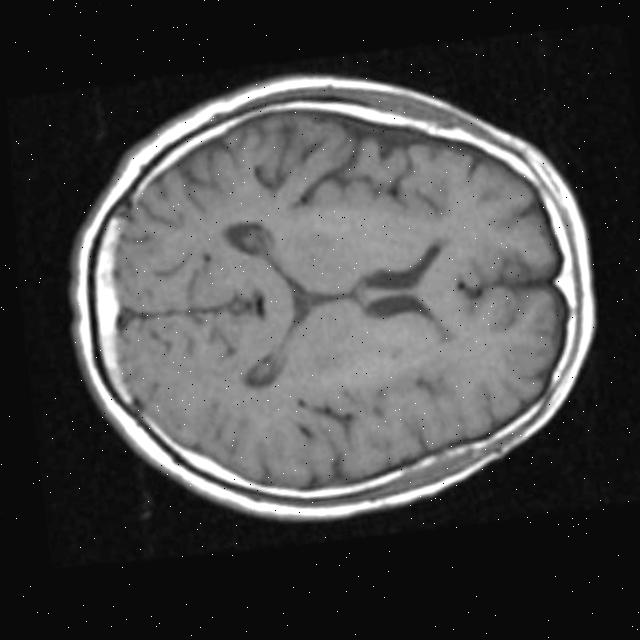NoTumor: (37, 38, 619, 550)
